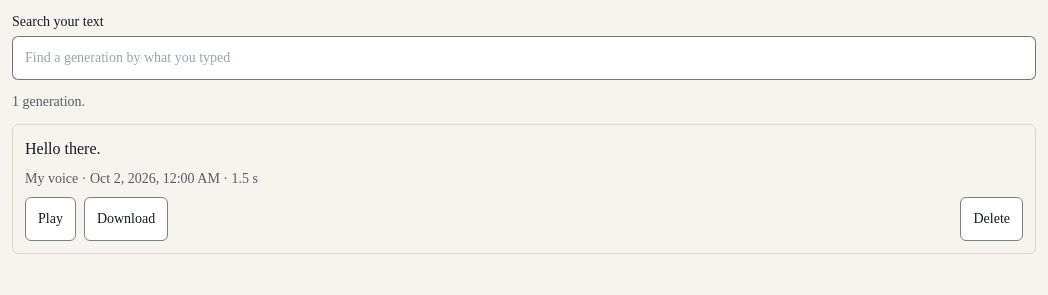
Scenario: HistoryList › offers retry after a transient audio error
What coordinates should you click on to do the following:
click the button with aria-label "Play:"
I would click on:
 (50, 219)
Its box is [25,197,76,241].
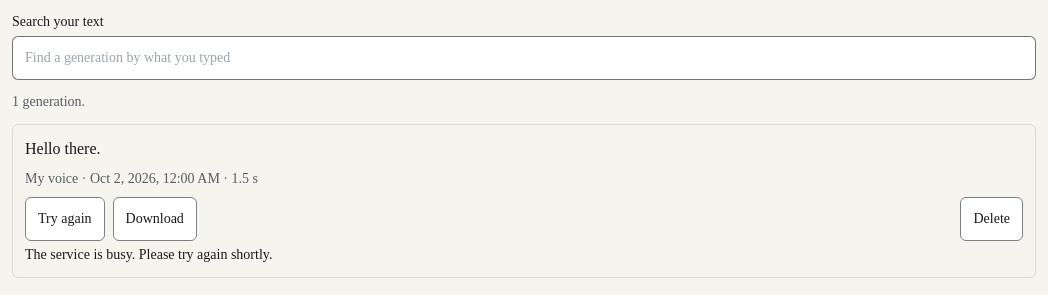
Expected: the message "The service is busy. Please try again shortly." is shown, [25,247,272,262]
Expected: the button "Try again" is shown, [25,197,104,241]
